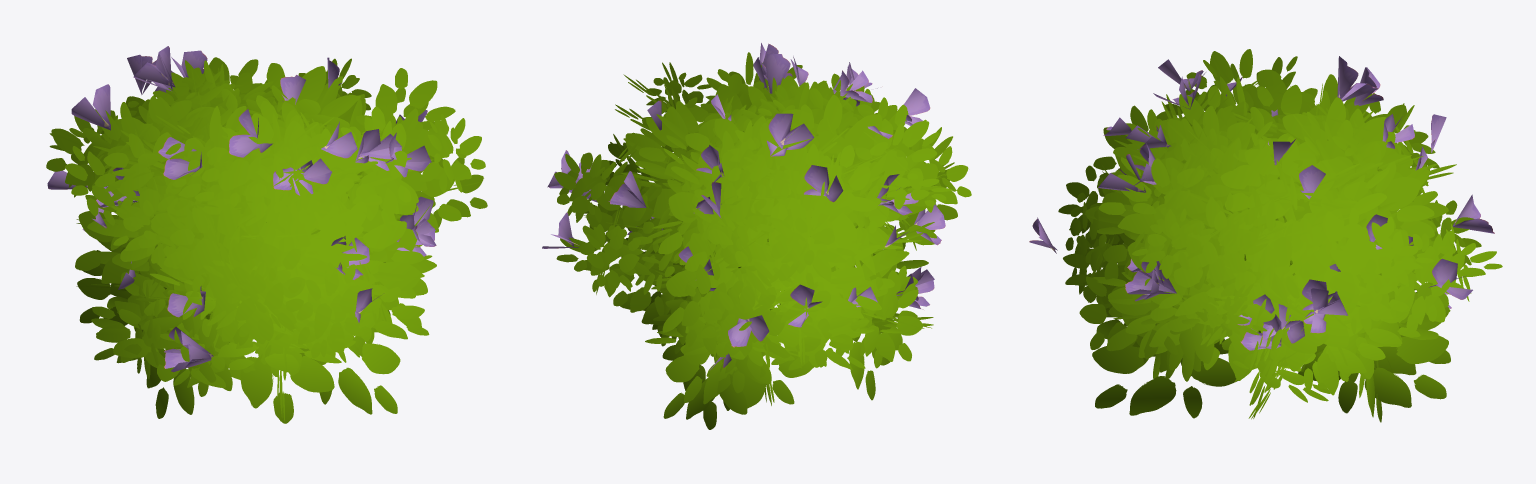
File: bush_common_flowers_50.gltf
3 renders of one model, left to right at view 1: azimuth 30°, elevation 25°; view 2: azimuth 150°, elevation 25°; view 3: azimuth 270°, elevation 25°, orthographic. The views are drawn at different scales.
Parts seen in each view (by area): view 1: bush_common_flowers_50; view 2: bush_common_flowers_50; view 3: bush_common_flowers_50.
Part boxes in pixels (left/top/right/bottom): bush_common_flowers_50: left=46, top=46, right=487, bottom=423; bush_common_flowers_50: left=542, top=43, right=971, bottom=429; bush_common_flowers_50: left=1029, top=49, right=1502, bottom=422.
Bounding box in the file's own units: 0.9112 × 0.7998 × 0.9123.
Materials: 2 (2 with a texture image).
